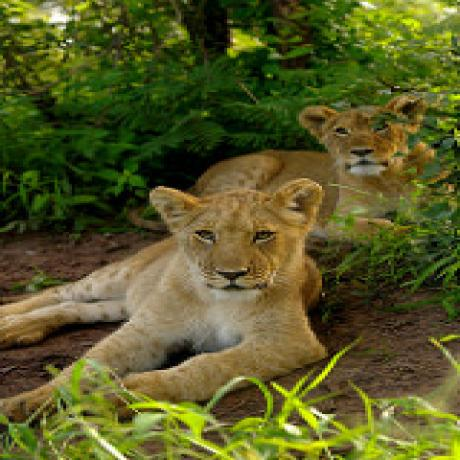Lion: (0, 179, 326, 414), (200, 99, 428, 228)
